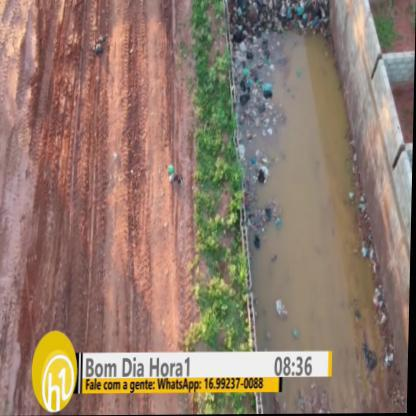agua: (275, 60, 344, 331)
